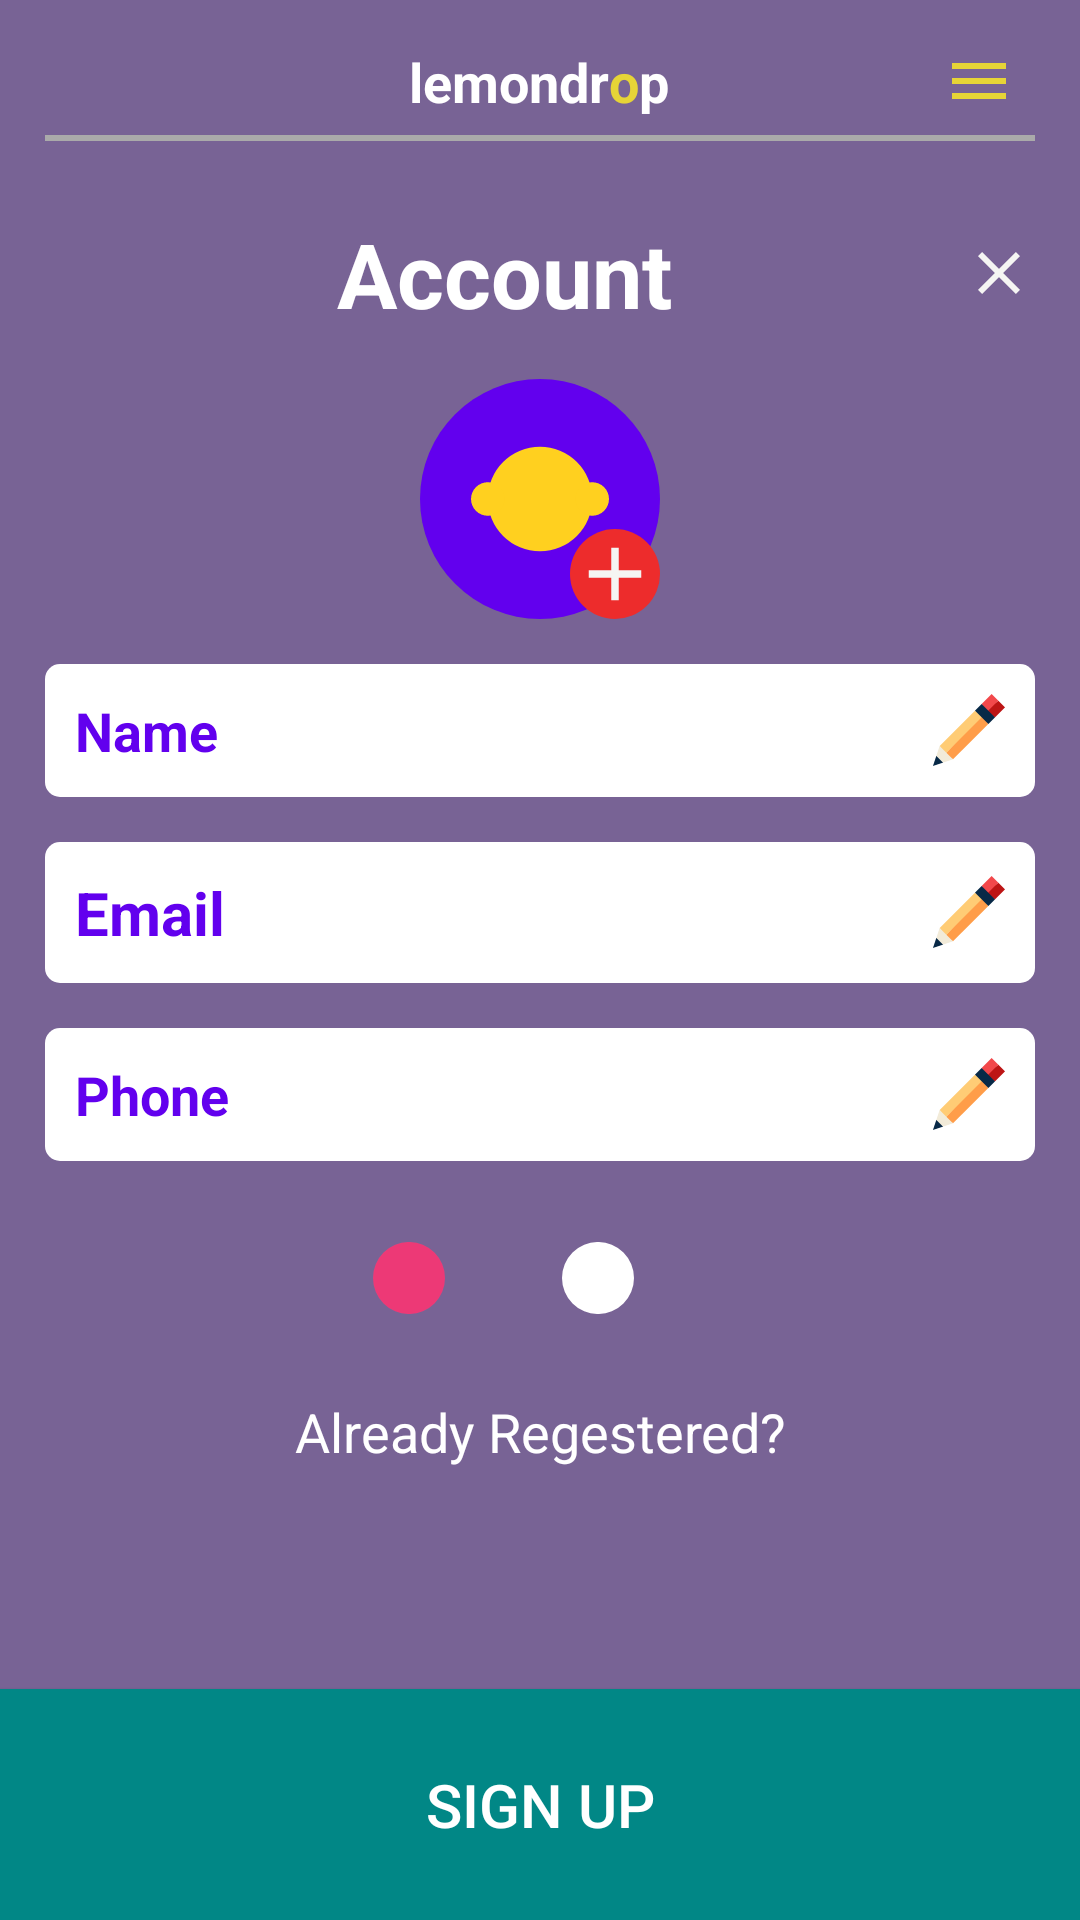

Point at icon controls on the screen. Image size 1080×1920, points as [x,y].
menu: [979,81]
